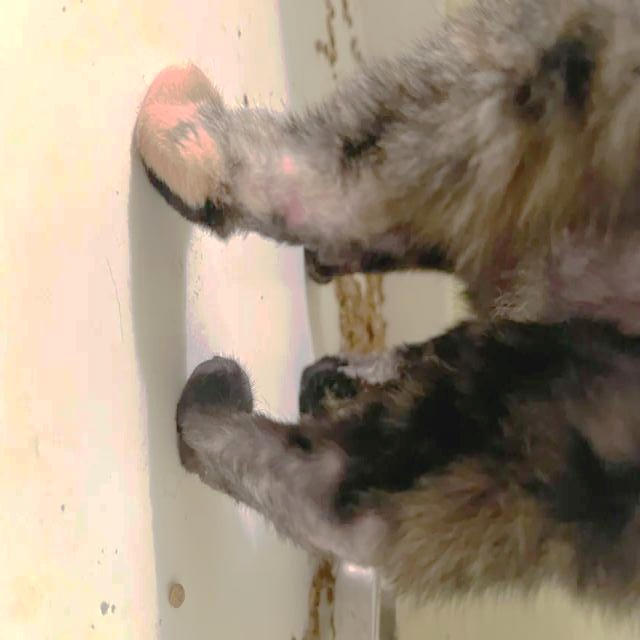hairloss: (217, 172, 358, 220), (304, 519, 369, 562)
